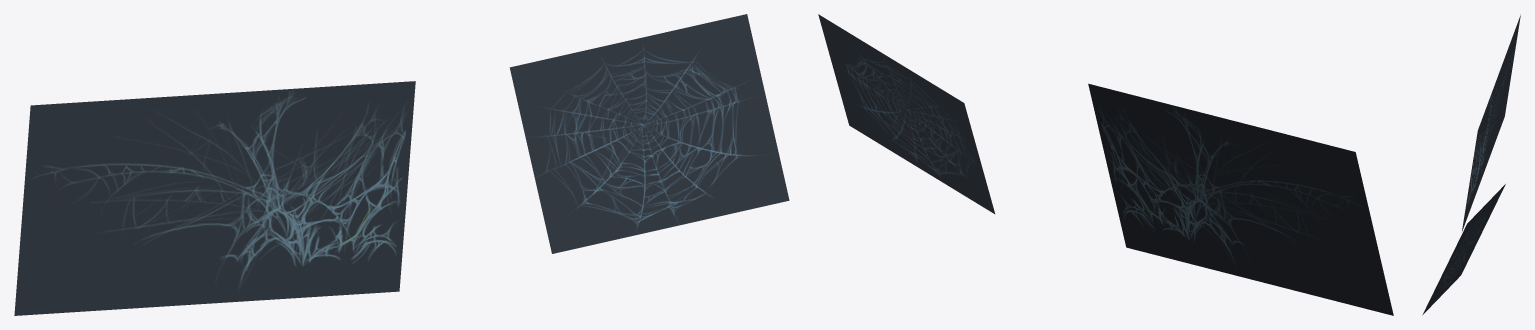
The model's file is Area_06_9.FBX.
3 views of the same model, side by side, from view 1: azimuth 30°, elevation 25°; view 2: azimuth 150°, elevation 25°; view 3: azimuth 270°, elevation 25° (orthographic). The views are drawn at different scales.
Visible parts, largest first — view 1: Area_06_9; view 2: Area_06_9; view 3: Area_06_9.
Boxes of the visible parts, left/top/right/bottom form: Area_06_9: left=14, top=14, right=789, bottom=315; Area_06_9: left=818, top=14, right=1393, bottom=315; Area_06_9: left=1422, top=14, right=1520, bottom=315.
Size of the model in its own units: 836 by 257 by 177.
Materials: 1 (1 with a texture image).
